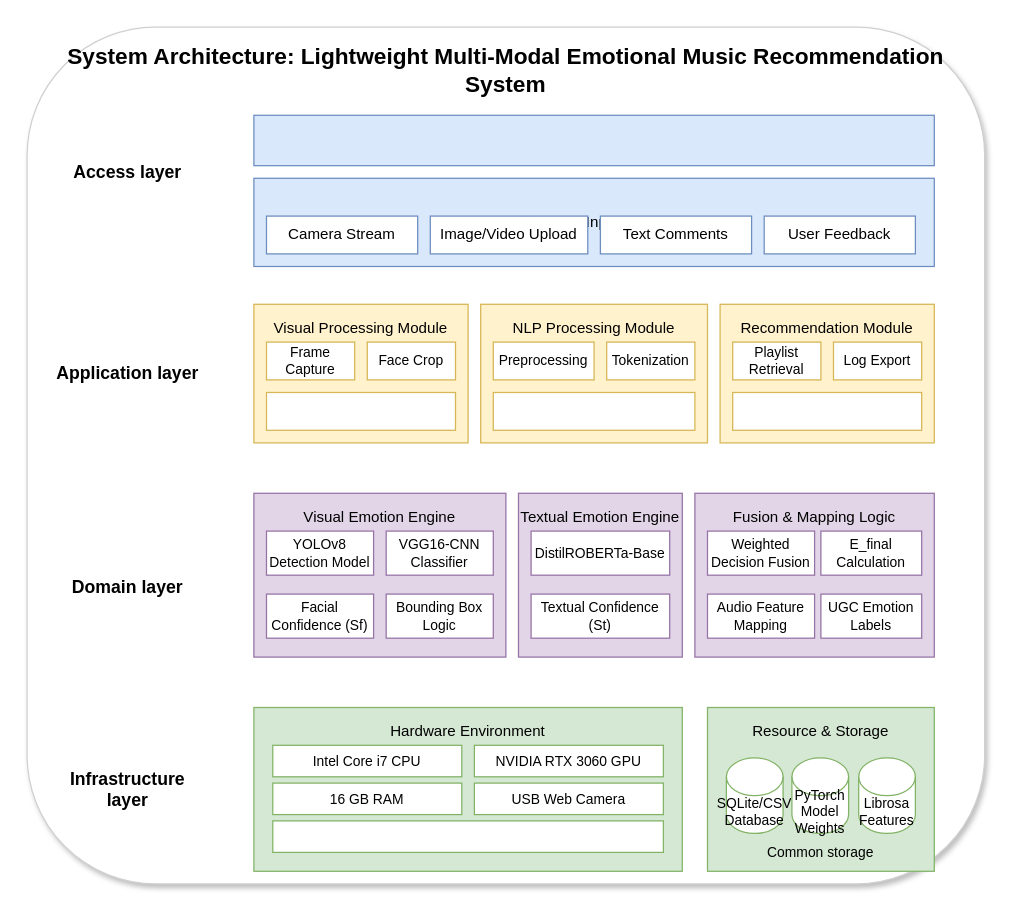
Image size: 1014x915. Some labels were removed from this diagram. Each missing label, with the centre of its shape:
CSV History Recording: the point at 826,410
Normalization Pipeline: the point at 593,410
OpenCV Annotation: the point at 360,410
User Interaction Interface (GUI): the point at 593,140
Windows OS (Cross-platform): the point at 467,836
